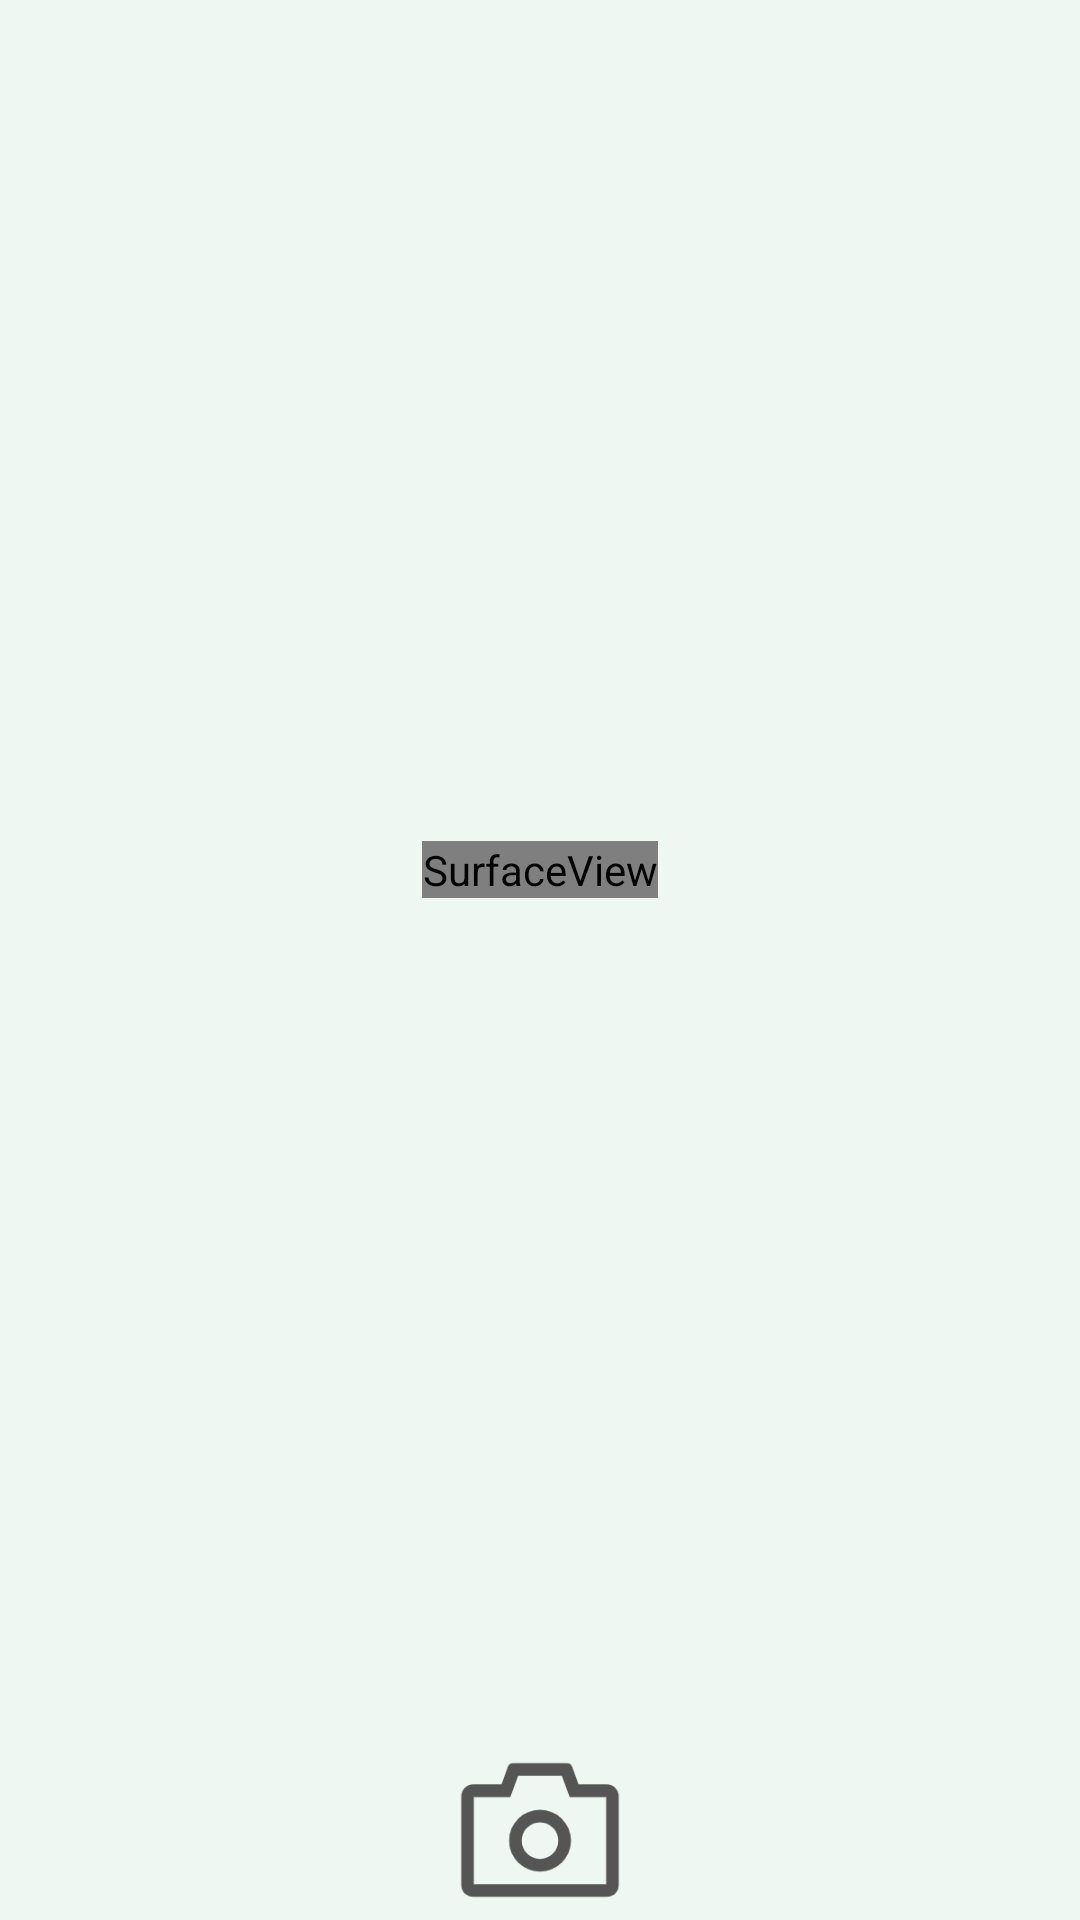

Icon click points for this 1080*1920 phone screenshot, format point (x, y):
takephoto: point (540, 1830)
